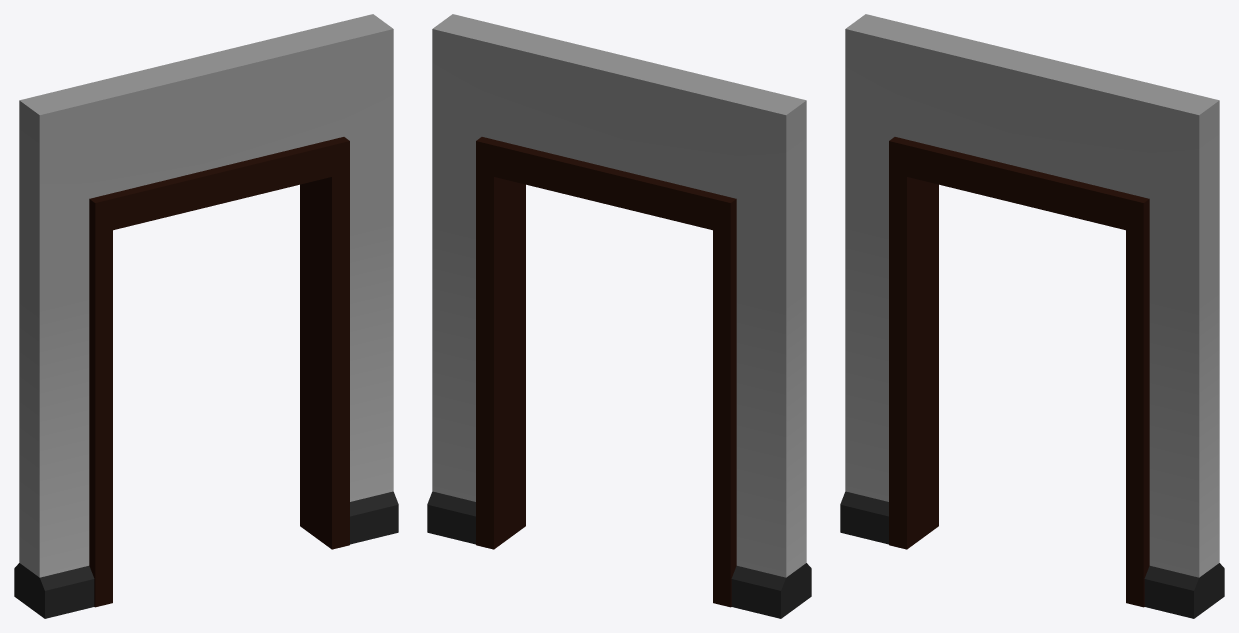
Rendered from DoorWallWithoutDoor.glb.
The picture shows the model from 3 angles, left to right: view 1: azimuth 30°, elevation 25°; view 2: azimuth 150°, elevation 25°; view 3: azimuth 330°, elevation 25°; orthographic projection.
Visible parts, largest first — view 1: DoorWall; view 2: DoorWall; view 3: DoorWall.
Part boxes in pixels (x1,y1,x2,y2): DoorWall: (14, 14, 398, 618); DoorWall: (427, 14, 811, 618); DoorWall: (840, 14, 1224, 618).
Bounding box in the file's own units: 2 × 2.7 × 0.3151.
Materials: 1 (1 with a texture image).
